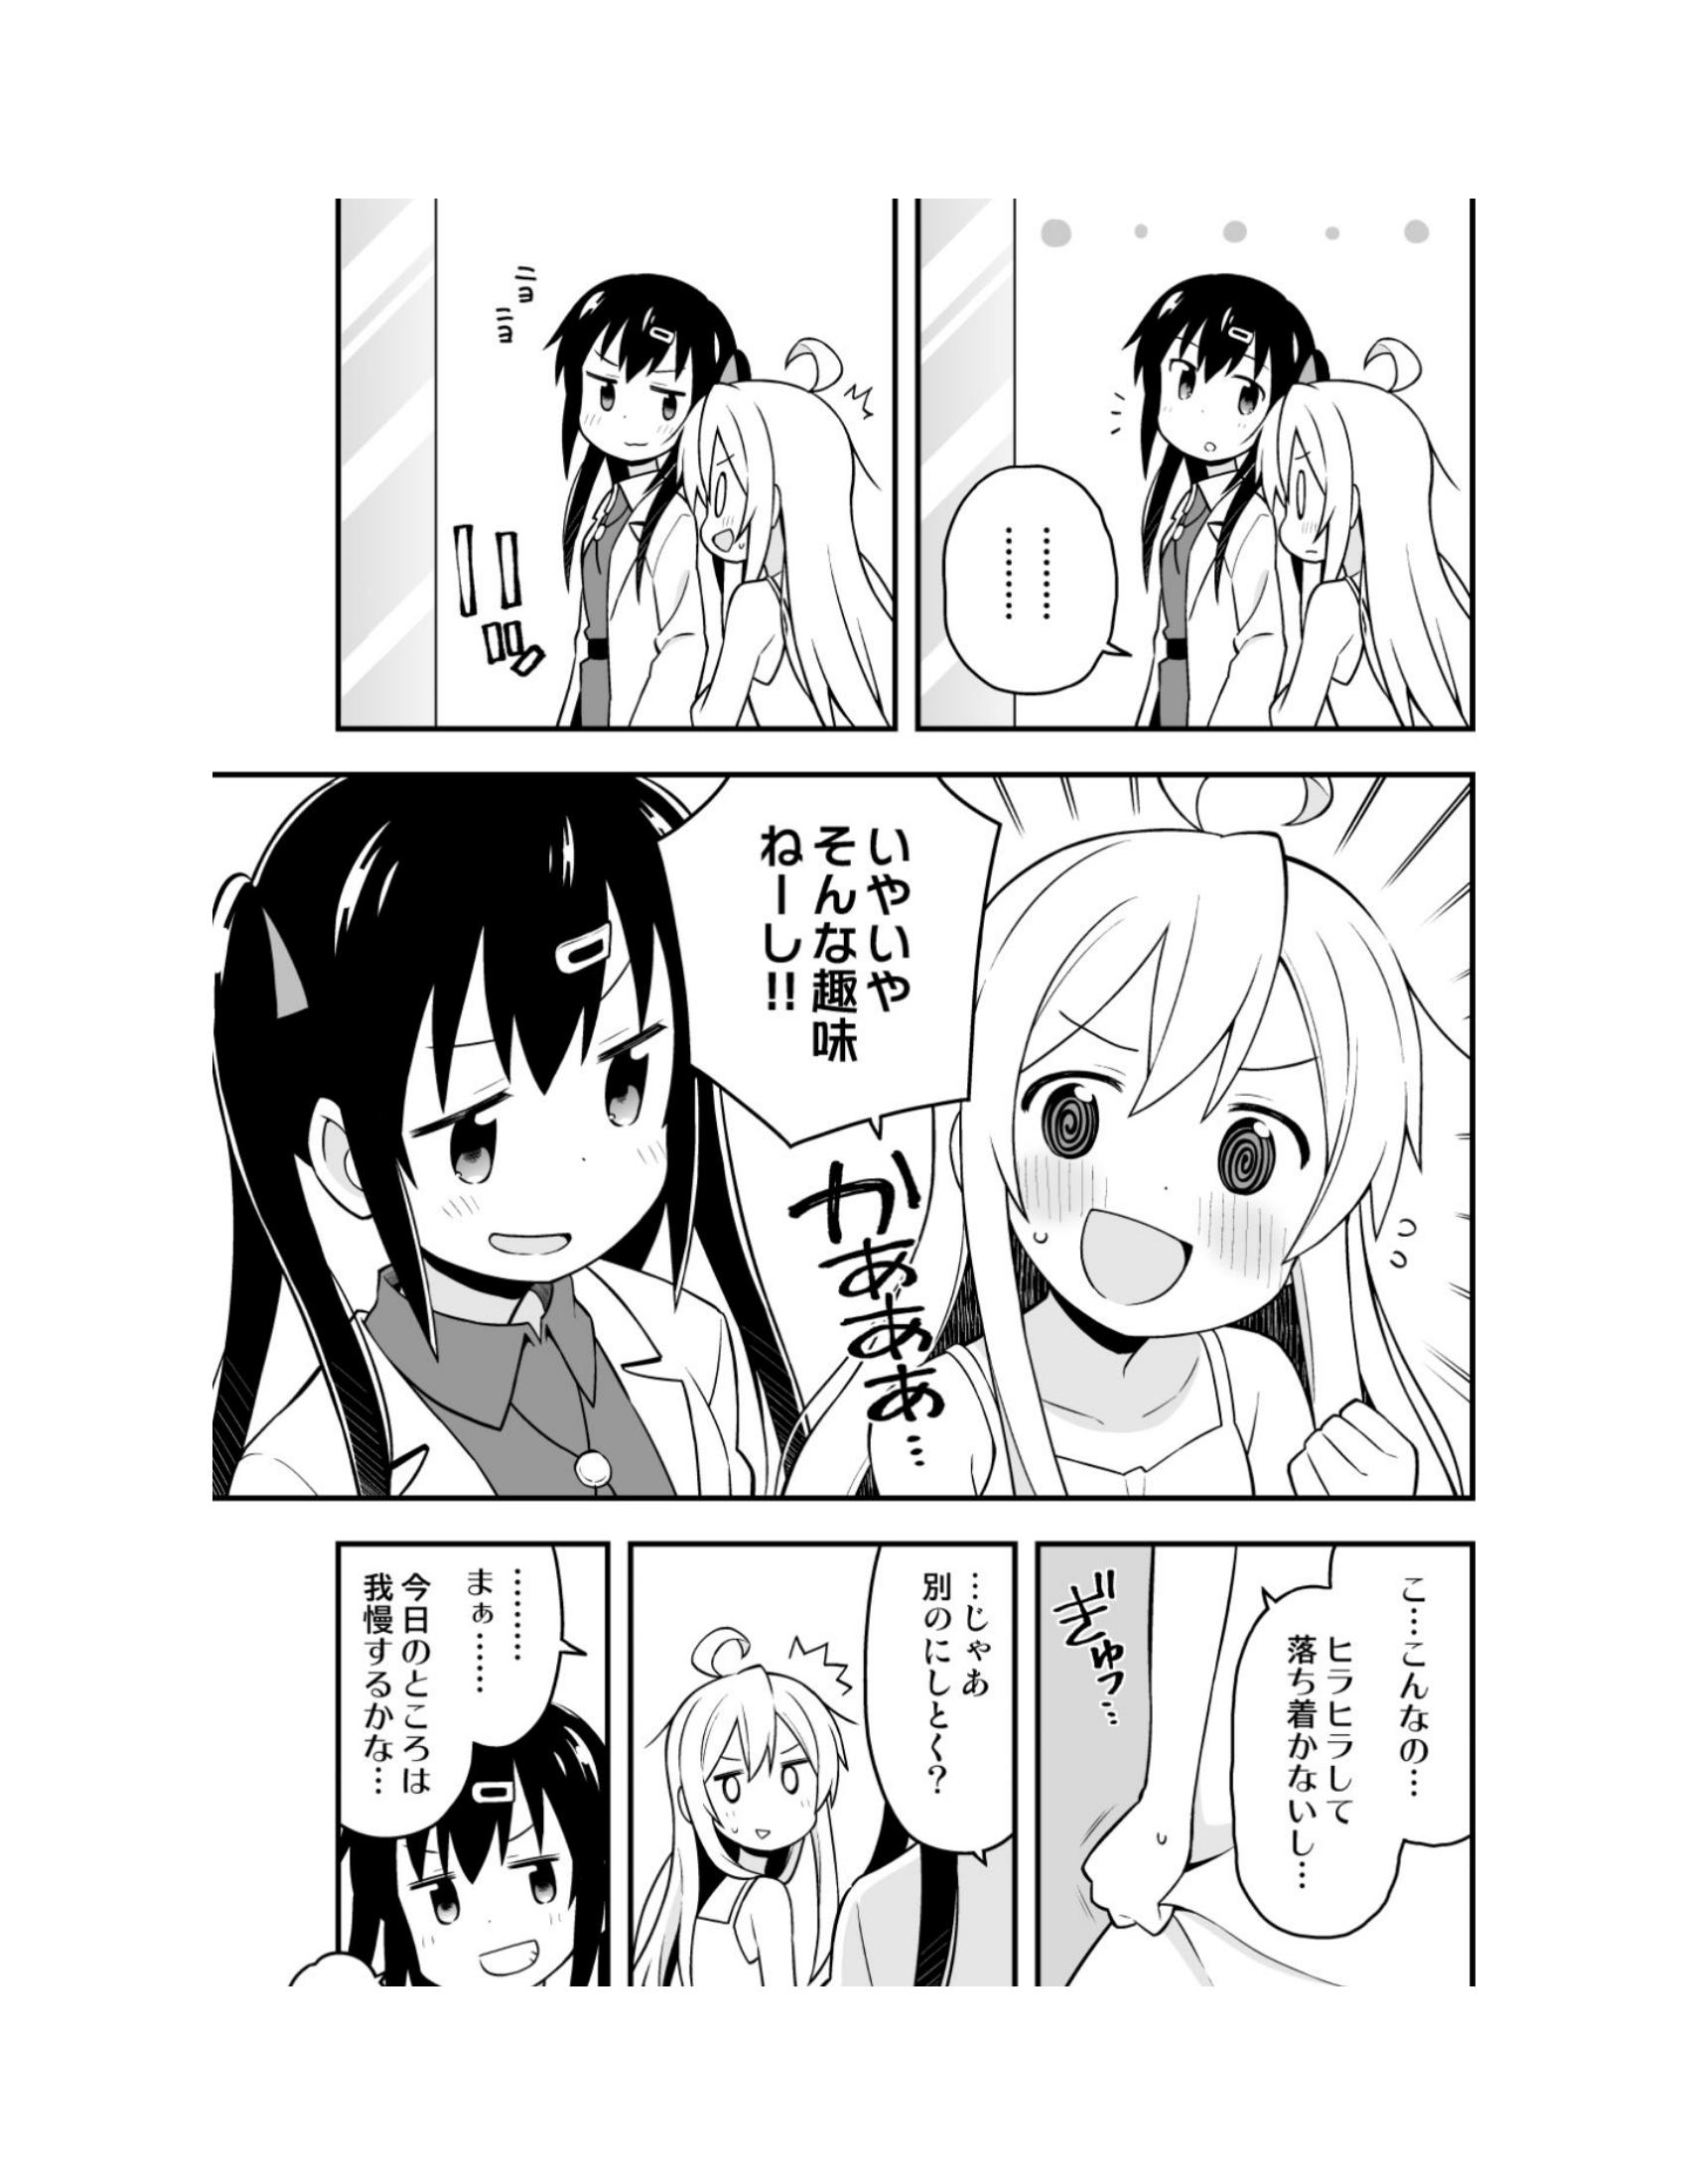a: (651, 750, 995, 1138), (1213, 1535, 1489, 1959), (316, 1551, 582, 1868), (830, 1494, 1039, 1828)
